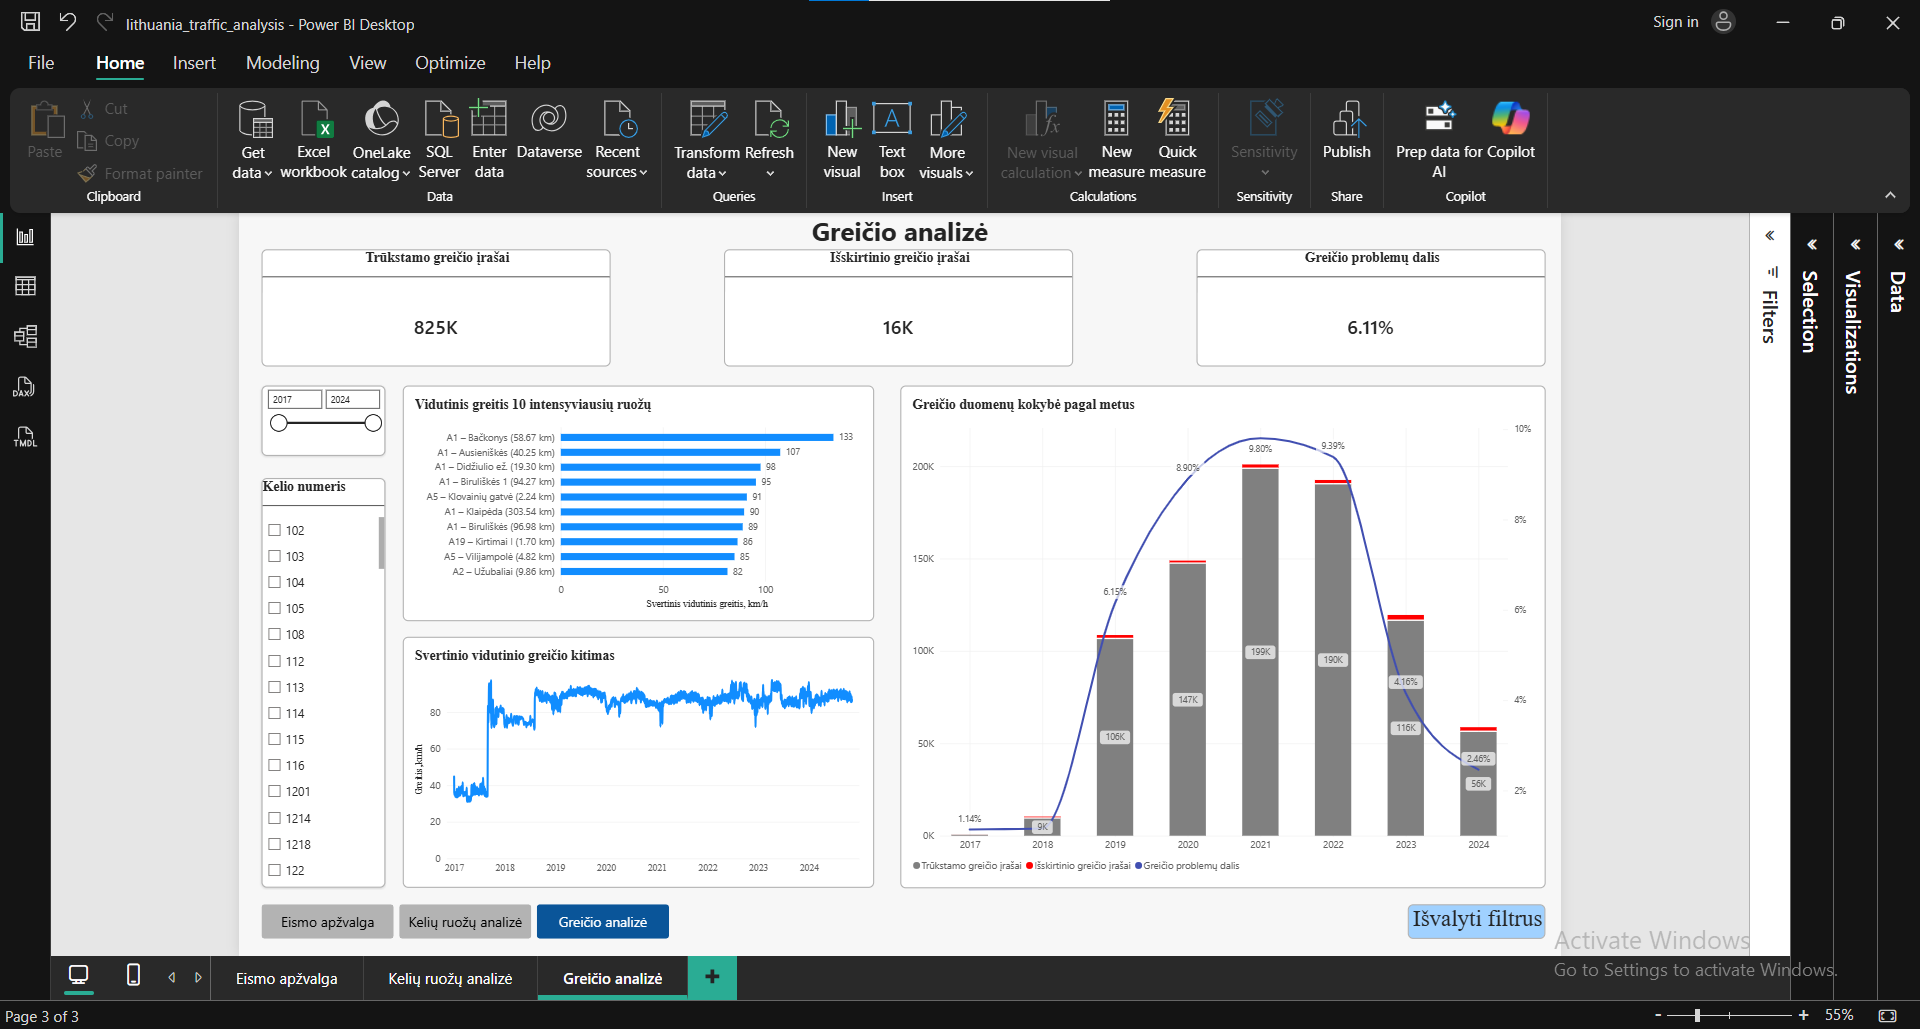

What the dashboard file says about the page in this screenshot:
{"tool":"powerbi","page":{"name":"Greičio analizė","canvas":[1920,1080],"ordinal":2},"visuals":[{"type":"lineChart","title":"Svertinio vidutinio greičio kitimas","fields":{"Category":["Dim Date.date_value"],"Y":["Fact Daily Traffic.Svertinis vidutinis greitis"]},"box":[237.5,615,685,365],"z":2},{"type":"clusteredBarChart","title":"Vidutinis greitis 10 intensyviausių ruožų","fields":{"Category":["Dim Road Segment.Kelio ruožas"],"Y":["Fact Daily Traffic.Svertinis vidutinis greitis"]},"box":[237.5,250,685,342.5],"z":3},{"type":"cardVisual","title":"Trūkstamo greičio įrašai","fields":{"Data":["Fact Daily Traffic.Trūkstamo greičio įrašai"]},"box":[32.5,52.5,507.5,170],"z":4},{"type":"cardVisual","title":"Išskirtinio greičio įrašai","fields":{"Data":["Fact Daily Traffic.Išskirtinio greičio įrašai"]},"box":[705,52.5,507.5,170],"z":5},{"type":"cardVisual","title":"Greičio problemų dalis","fields":{"Data":["Fact Daily Traffic.Greičio problemų dalis"]},"box":[1390,52.5,507.5,170],"z":6},{"type":"lineStackedColumnComboChart","title":"Greičio duomenų kokybė pagal metus","fields":{"Category":["Dim Date.calendar_year"],"Y":["Fact Daily Traffic.Trūkstamo greičio įrašai","Fact Daily Traffic.Išskirtinio greičio įrašai"],"Y2":["Fact Daily Traffic.Greičio problemų dalis"]},"box":[960,250,937.5,730],"z":8},{"type":"actionButton","title":"Išvalyti filtrus","box":[1697.5,1005,200,50],"z":10},{"type":"pageNavigator","box":[32.5,1005,594,50],"z":11},{"type":"textbox","box":[0,0,1920,52.5],"z":12},{"type":"slicer","fields":{"Values":["Dim Date.calendar_year"]},"box":[32.5,250,180,102.5],"z":13},{"type":"slicer","title":"Kelio numeris","fields":{"Values":["Dim Road Segment.road_number"]},"box":[32.5,385,180,595],"z":14}]}

Visuals, with their boxes on the page's 1920x1080 design canvas (x1, y1, x2, y2). These are canvas units, not pixel positions in the 1920x1029 screenshot, which may show the page scaled, cropped or inside an application window:
"Svertinio vidutinio greičio kitimas" lineChart: (x1=238, y1=615, x2=922, y2=980)
"Vidutinis greitis 10 intensyviausių ruožų" clusteredBarChart: (x1=238, y1=250, x2=922, y2=592)
"Trūkstamo greičio įrašai" cardVisual: (x1=32, y1=52, x2=540, y2=222)
"Išskirtinio greičio įrašai" cardVisual: (x1=705, y1=52, x2=1212, y2=222)
"Greičio problemų dalis" cardVisual: (x1=1390, y1=52, x2=1898, y2=222)
"Greičio duomenų kokybė pagal metus" lineStackedColumnComboChart: (x1=960, y1=250, x2=1898, y2=980)
"Išvalyti filtrus" actionButton: (x1=1698, y1=1005, x2=1898, y2=1055)
pageNavigator: (x1=32, y1=1005, x2=626, y2=1055)
textbox: (x1=0, y1=0, x2=1920, y2=52)
slicer - Dim Date.calendar_year: (x1=32, y1=250, x2=212, y2=352)
"Kelio numeris" slicer: (x1=32, y1=385, x2=212, y2=980)
